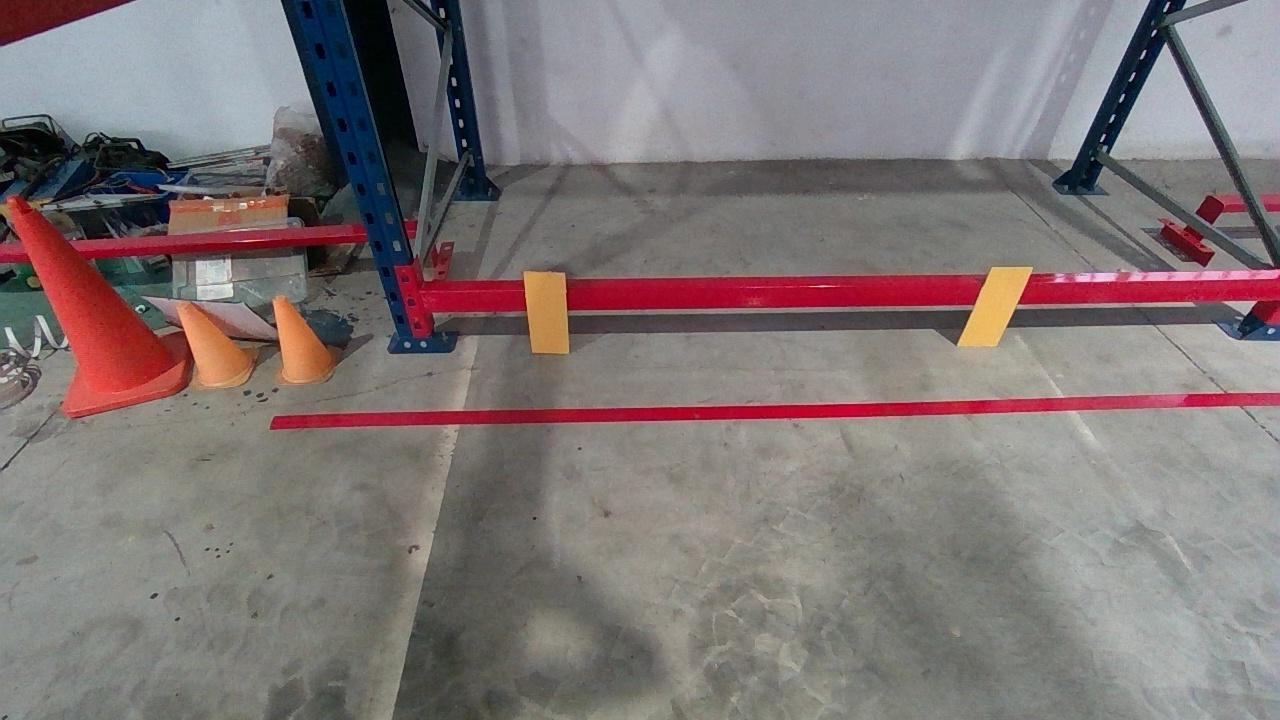h_rack: (421, 281, 1279, 312)
orange_strip: (959, 264, 1037, 347), (521, 272, 568, 353)
red_line: (270, 392, 1279, 426)
